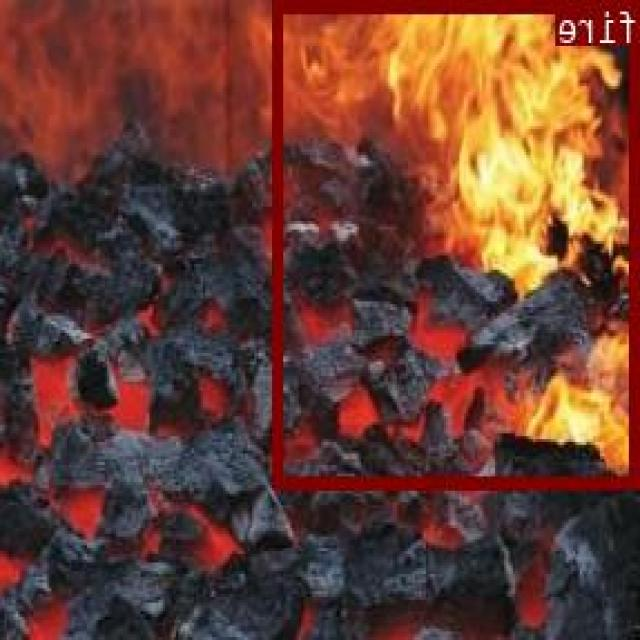fire: (274, 0, 640, 485)
